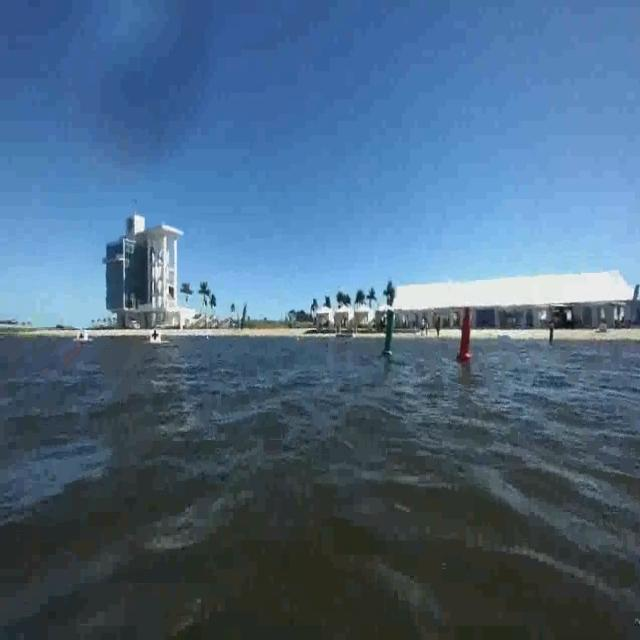green-column-buoy: (382, 308, 398, 358)
red-column-buoy: (457, 307, 474, 363)
